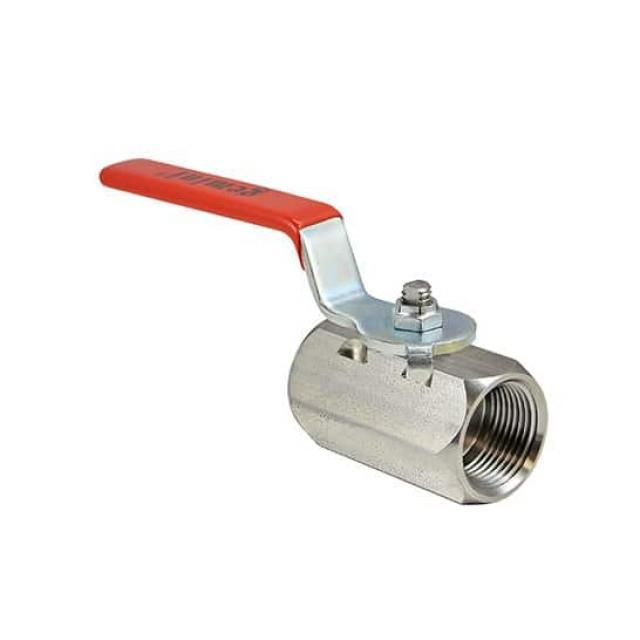opened valve: (99, 157, 549, 506)
